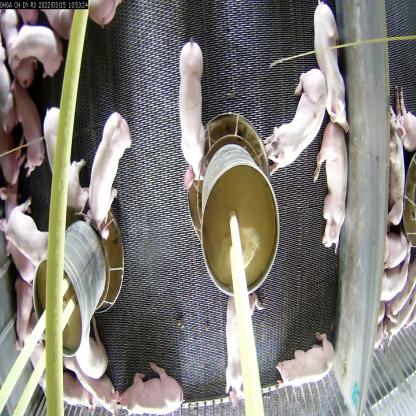Pig: (259, 68, 327, 174), (308, 0, 358, 136), (86, 111, 132, 234), (175, 36, 210, 196), (42, 100, 91, 213), (221, 291, 266, 407), (313, 122, 349, 254), (8, 75, 47, 179), (275, 329, 337, 392), (70, 342, 122, 415), (119, 360, 188, 415), (0, 197, 52, 268), (11, 24, 64, 82), (387, 102, 408, 236), (10, 278, 43, 358)
